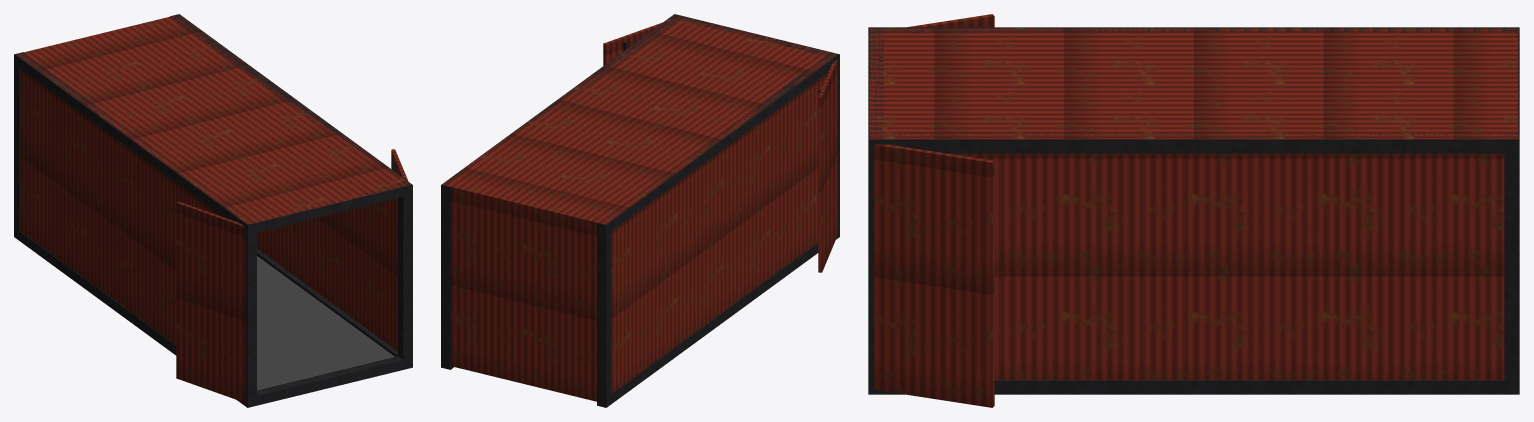
The model's file is container-red.glb.
3 views of the same model, side by side, from view 1: azimuth 30°, elevation 25°; view 2: azimuth 150°, elevation 25°; view 3: azimuth 270°, elevation 25° (orthographic). The views are drawn at different scales.
Visible parts, largest first — view 1: container; view 2: container; view 3: container.
Boxes of the visible parts, left/top/right/bottom form: container: left=14, top=14, right=412, bottom=407; container: left=441, top=14, right=839, bottom=407; container: left=868, top=14, right=1519, bottom=407.
Size of the model in its own units: 3.26 by 2.6 by 6.02.
3 materials, 2 textured.
